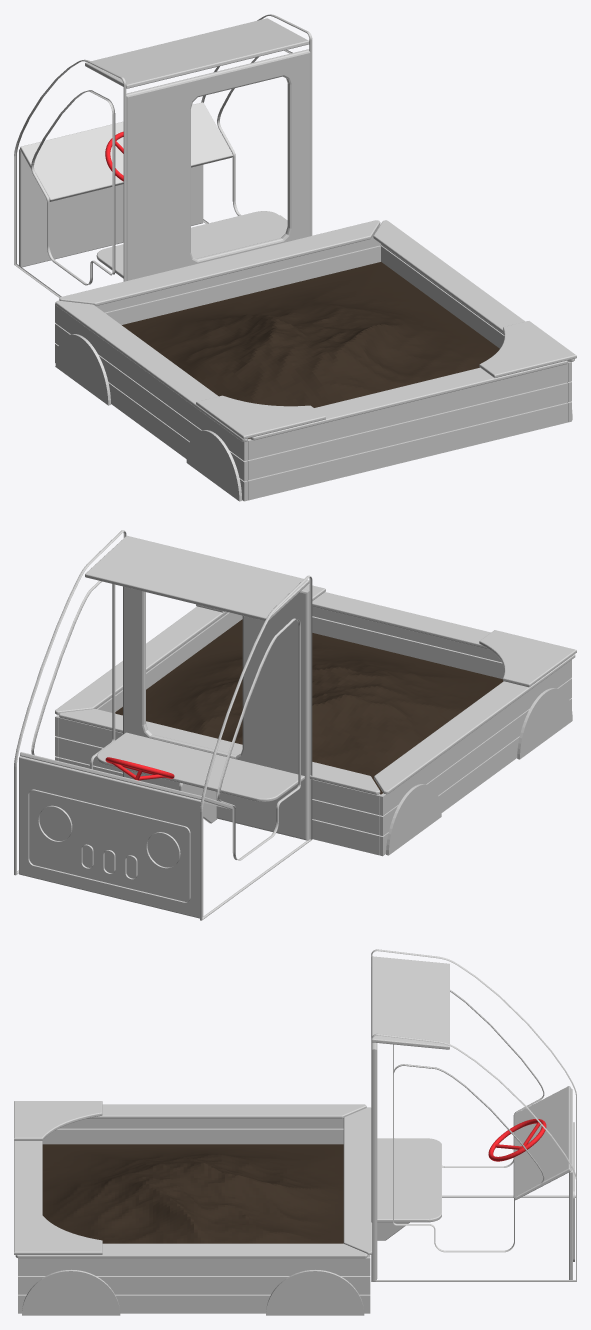
3 views of the same model, one above another, from view 1: azimuth 30°, elevation 25°; view 2: azimuth 150°, elevation 25°; view 3: azimuth 270°, elevation 25° (orthographic). The views are drawn at different scales.
Parts seen in each view (by area): view 1: D_19_1; view 2: D_19_1; view 3: D_19_1.
Part boxes in pixels (box(x1,y1,x2,y2)): D_19_1: box(14, 14, 576, 501); D_19_1: box(14, 530, 576, 920); D_19_1: box(14, 949, 576, 1315).
Bounding box in the file's own units: 182 × 139 × 286.
